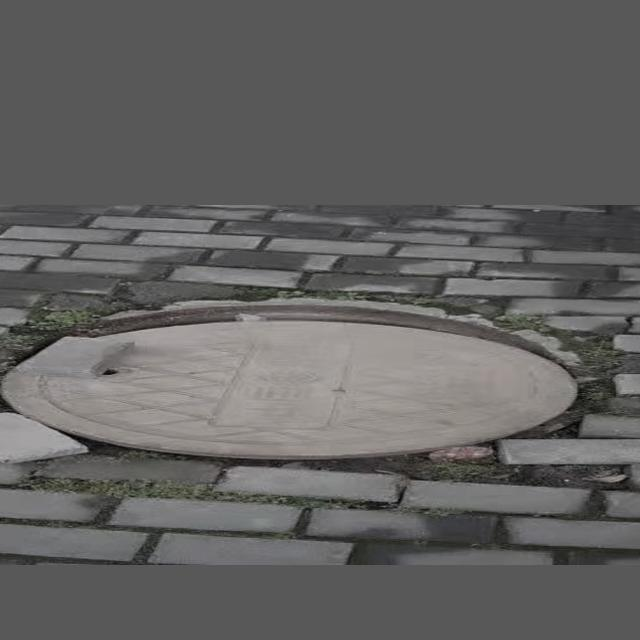uncovered: (0, 297, 581, 460)
